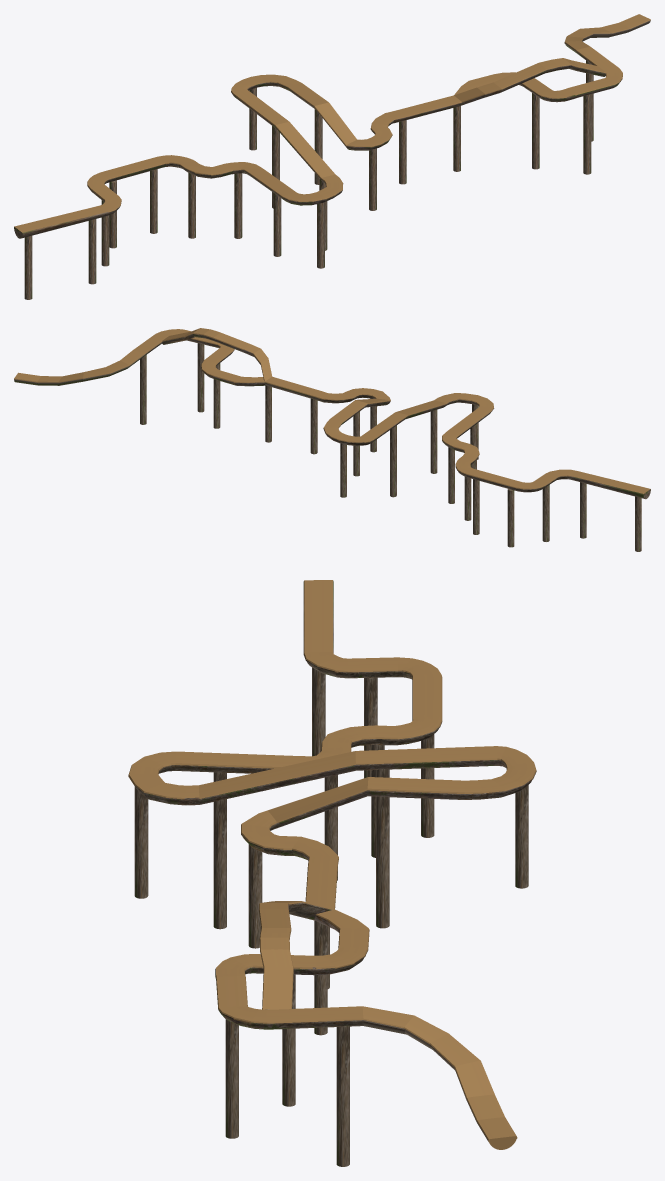
File: BaumstammBrücke 1.fbx
The picture shows the model from 3 angles, top to bottom: view 1: azimuth 30°, elevation 25°; view 2: azimuth 150°, elevation 25°; view 3: azimuth 270°, elevation 25°; orthographic projection. The views are drawn at different scales.
Parts seen in each view (by area): view 1: FinalBaumBruecke; view 2: FinalBaumBruecke; view 3: FinalBaumBruecke.
Part boxes in pixels (x1=…): FinalBaumBruecke: x1=14, y1=14, x2=650, y2=299; FinalBaumBruecke: x1=14, y1=328, x2=650, y2=551; FinalBaumBruecke: x1=128, y1=580, x2=536, y2=1166.
Bounding box in the file's own units: 89.94 × 15.05 × 27.09.
